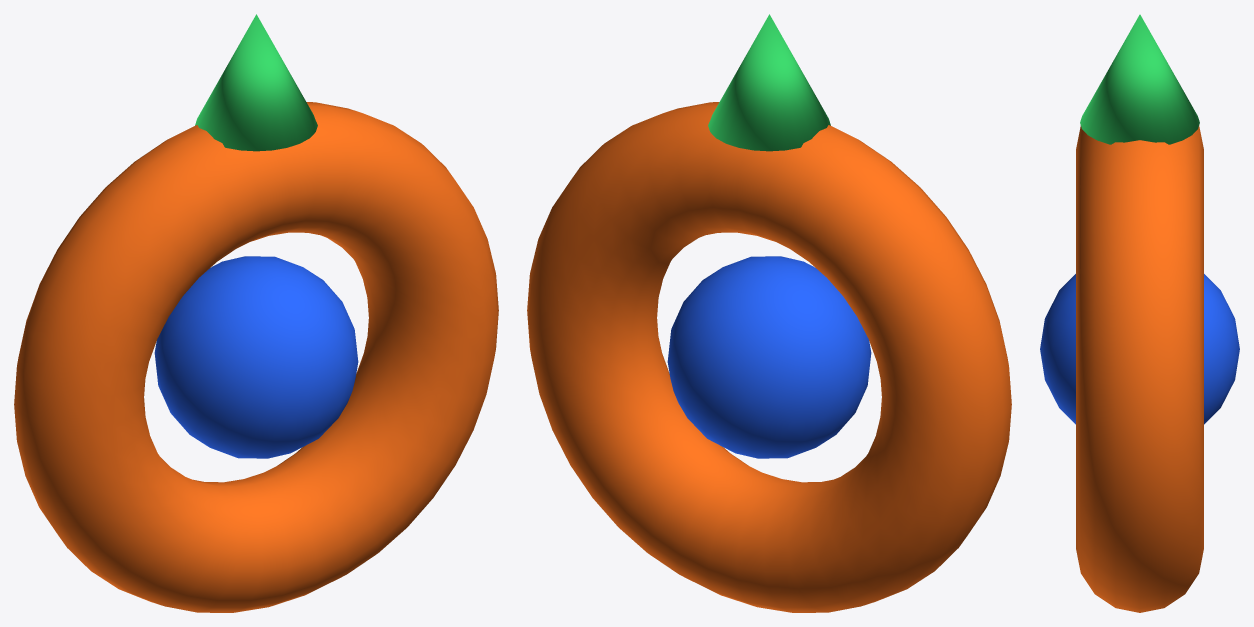
File: rings.obj
The picture shows the model from 3 angles, left to right: view 1: azimuth 30°, elevation 25°; view 2: azimuth 150°, elevation 25°; view 3: azimuth 270°, elevation 25°; orthographic projection. The views are drawn at different scales.
Visible parts, largest first — view 1: Torus, Icosphere, Cone; view 2: Torus, Icosphere, Cone; view 3: Torus, Cone, Icosphere.
Part boxes in pixels (<box>): Torus: <box>14,102,498,612</box>; Icosphere: <box>154,256,358,458</box>; Cone: <box>195,14,317,151</box>; Torus: <box>527,102,1011,612</box>; Icosphere: <box>667,256,871,458</box>; Cone: <box>708,14,830,151</box>; Torus: <box>1076,125,1203,612</box>; Cone: <box>1080,14,1199,144</box>; Icosphere: <box>1040,274,1239,424</box>.
Size of the model in its own units: 2.64 by 3.17 by 1.
